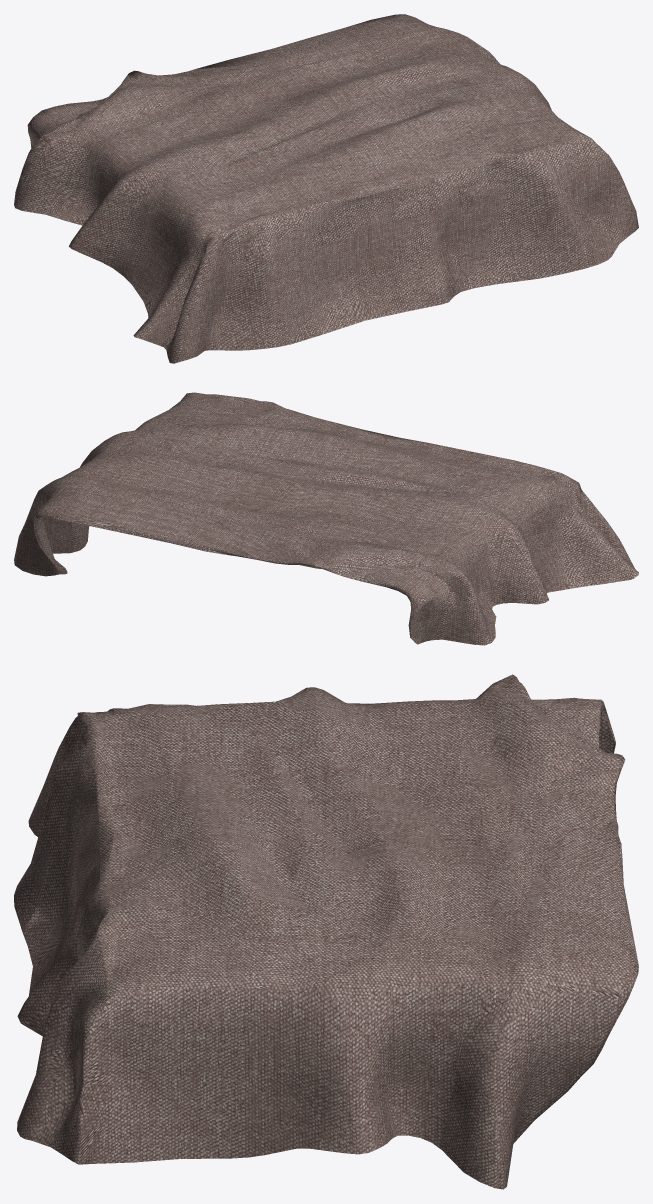
The model's file is blanket.FBX.
3 renders of one model, top to bottom at view 1: azimuth 30°, elevation 25°; view 2: azimuth 150°, elevation 25°; view 3: azimuth 270°, elevation 25°, orthographic. The views are drawn at different scales.
Parts seen in each view (by area): view 1: blanket; view 2: blanket; view 3: blanket.
Boxes of the visible parts, box(x1,y1,x2,y2) form: blanket: box(14, 14, 638, 363); blanket: box(14, 392, 638, 645); blanket: box(14, 674, 638, 1189).
Bounding box in the file's own units: 277 × 64.21 × 189.
1 material, 1 textured.
